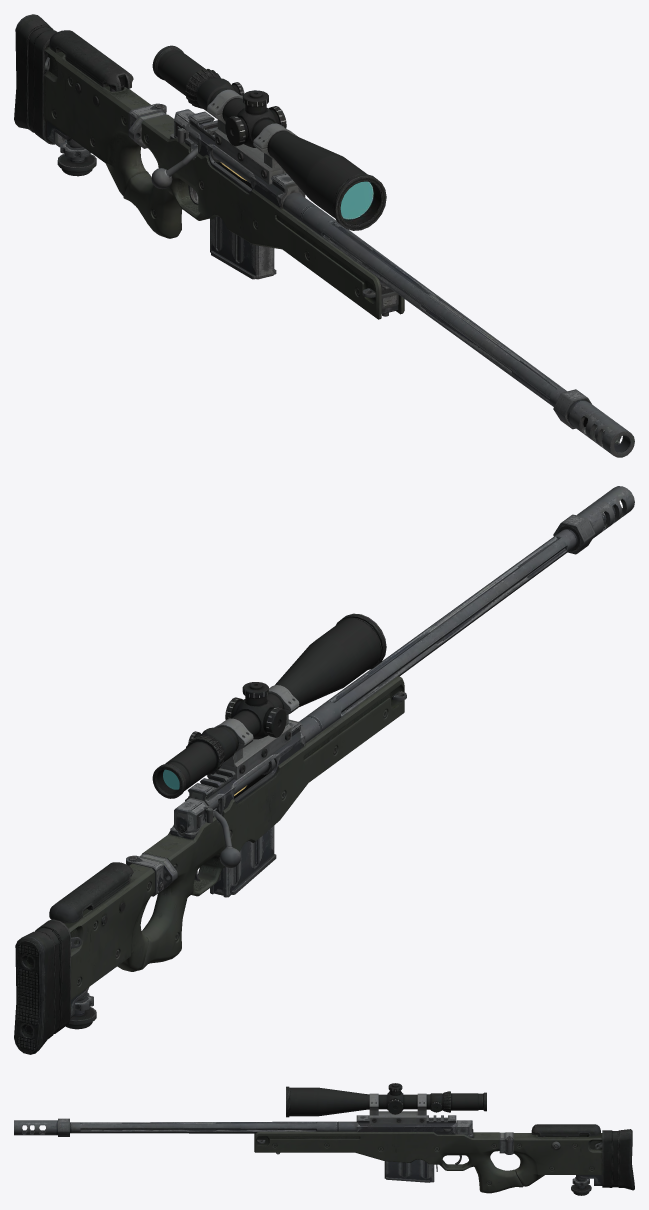
The model's file is r7_sniper.glb.
3 views of the same model, one above another, from view 1: azimuth 30°, elevation 25°; view 2: azimuth 150°, elevation 25°; view 3: azimuth 270°, elevation 25° (orthographic). The views are drawn at different scales.
Parts seen in each view (by area): view 1: body; view 2: body; view 3: body.
Part boxes in pixels (<box>): body: <box>14,14,634,457</box>; body: <box>14,486,634,1054</box>; body: <box>14,1083,634,1195</box>.
Bounding box in the file's own units: 0.0788 × 0.2266 × 1.18.
Materials: 1 (1 with a texture image).
